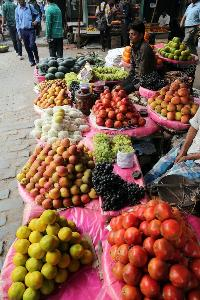apple: (28, 103, 92, 141), (148, 79, 200, 125), (152, 34, 200, 62), (32, 85, 70, 109)
grape: (92, 134, 150, 208), (88, 62, 130, 82), (142, 68, 168, 90), (68, 68, 82, 106)
lime: (1, 208, 92, 300)
peach: (11, 138, 93, 208)
pomegranate: (86, 84, 148, 134)
tomato: (106, 194, 200, 300)
watermelon: (34, 52, 82, 80)
